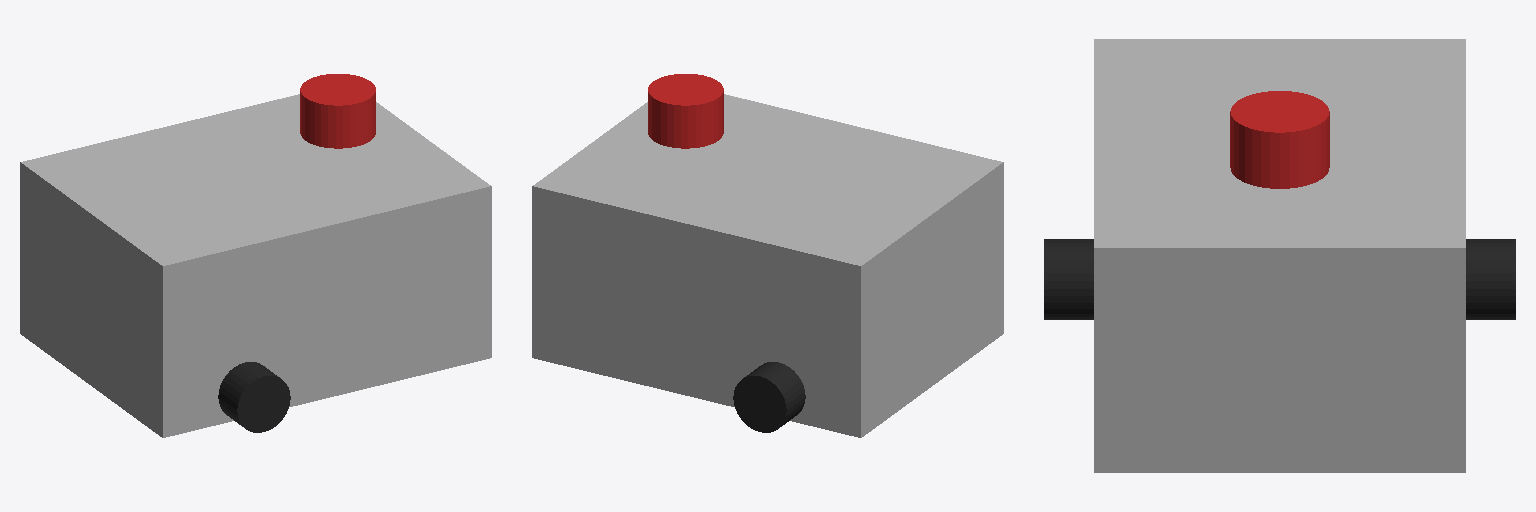
robot.urdf — portamail_robot:
<?xml version="1.0"?>
<robot name="portamail_robot" xmlns:xacro="http://www.ros.org/wiki/xacro">

  <!-- Base Link -->
  <link name="base_link">
    <inertial>
      <mass value="26.99"/>
      <origin xyz="0 0 0.1"/>
      <inertia ixx="0.619" ixy="0" ixz="0.006" iyy="0.668" iyz="0" izz="0.983"/>
    </inertial>
    <visual>
      <origin xyz="0 0 0.1" rpy="0 0 0"/>
      <geometry>
        <box size="0.4 0.3 0.2"/>
      </geometry>
      <material name="gray">
        <color rgba="0.75 0.75 0.75 1"/>
      </material>
    </visual>
    <collision>
      <origin xyz="0 0 0.1" rpy="0 0 0"/>
      <geometry>
        <box size="0.4 0.3 0.2"/>
      </geometry>
    </collision>
  </link>

  <!-- Left Wheel -->
  <link name="left_wheel">
    <inertial>
      <mass value="0.589"/>
      <inertia ixx="0.00113" ixy="0" ixz="0" iyy="0.00113" iyz="0" izz="0.00220"/>
    </inertial>
    <visual>
      <origin xyz="0 0 0" rpy="1.5708 0 0"/>
      <geometry>
        <cylinder radius="0.0325" length="0.04"/>
      </geometry>
      <material name="black">
        <color rgba="0.2 0.2 0.2 1"/>
      </material>
    </visual>
    <collision>
      <origin xyz="0 0 0" rpy="1.5708 0 0"/>
      <geometry>
        <cylinder radius="0.0325" length="0.04"/>
      </geometry>
    </collision>
  </link>

  <joint name="left_wheel_joint" type="continuous">
    <parent link="base_link"/>
    <child link="left_wheel"/>
    <origin xyz="-0.10 0.17 0.0325" rpy="0 0 0"/>
    <axis xyz="0 1 0"/>
  </joint>

  <!-- Right Wheel -->
  <link name="right_wheel">
    <inertial>
      <mass value="0.589"/>
      <inertia ixx="0.00113" ixy="0" ixz="0" iyy="0.00113" iyz="0" izz="0.00220"/>
    </inertial>
    <visual>
      <origin xyz="0 0 0" rpy="1.5708 0 0"/>
      <geometry>
        <cylinder radius="0.0325" length="0.04"/>
      </geometry>
      <material name="black">
        <color rgba="0.2 0.2 0.2 1"/>
      </material>
    </visual>
    <collision>
      <origin xyz="0 0 0" rpy="1.5708 0 0"/>
      <geometry>
        <cylinder radius="0.0325" length="0.04"/>
      </geometry>
    </collision>
  </link>

  <joint name="right_wheel_joint" type="continuous">
    <parent link="base_link"/>
    <child link="right_wheel"/>
    <origin xyz="-0.10 -0.17 0.0325" rpy="0 0 0"/>
    <axis xyz="0 1 0"/>
  </joint>

  <!-- Caster Wheel -->
  <link name="caster_wheel">
    <inertial>
      <mass value="0.066"/>
      <inertia ixx="0.00003" ixy="0" ixz="0" iyy="0.00003" iyz="0" izz="0.00004"/>
    </inertial>
    <visual>
      <geometry>
        <sphere radius="0.0325"/>
      </geometry>
      <material name="gray">
        <color rgba="0.5 0.5 0.5 1"/>
      </material>
    </visual>
    <collision>
      <geometry>
        <sphere radius="0.0325"/>
      </geometry>
    </collision>
  </link>

  <joint name="caster_joint" type="fixed">
    <parent link="base_link"/>
    <child link="caster_wheel"/>
    <origin xyz="0.15 0 0.0325" rpy="0 0 0"/>
  </joint>

  <!-- Laser Scanner -->
  <link name="laser">
    <inertial>
      <mass value="0.125"/>
      <inertia ixx="0.001" ixy="0" ixz="0" iyy="0.001" iyz="0" izz="0.001"/>
    </inertial>
    <visual>
      <geometry>
        <cylinder radius="0.04" length="0.05"/>
      </geometry>
      <material name="red">
        <color rgba="0.8 0.2 0.2 1"/>
      </material>
    </visual>
    <collision>
      <geometry>
        <cylinder radius="0.04" length="0.05"/>
      </geometry>
    </collision>
  </link>

  <joint name="laser_joint" type="fixed">
    <parent link="base_link"/>
    <child link="laser"/>
    <origin xyz="0.1 0 0.25" rpy="0 0 0"/>
  </joint>

  <!-- ============================================ -->
  <!-- GAZEBO CLASSIC PLUGINS -->
  <!-- ============================================ -->

  <!-- Differential Drive Controller -->
  <gazebo>
    <plugin name="differential_drive_controller" filename="libgazebo_ros_diff_drive.so">
      <update_rate>50</update_rate>
      <left_joint>left_wheel_joint</left_joint>
      <right_joint>right_wheel_joint</right_joint>
      <wheel_separation>0.34</wheel_separation>
      <wheel_diameter>0.065</wheel_diameter>
      <max_wheel_torque>20</max_wheel_torque>
      <max_wheel_acceleration>1.0</max_wheel_acceleration>
      <command_topic>cmd_vel</command_topic>
      <publish_odom>true</publish_odom>
      <publish_odom_tf>true</publish_odom_tf>
      <publish_wheel_tf>false</publish_wheel_tf>
      <odometry_topic>odom</odometry_topic>
      <odometry_frame>odom</odometry_frame>
      <robot_base_frame>base_link</robot_base_frame>
    </plugin>
  </gazebo>

  <!-- Lidar Sensor -->
  <gazebo reference="laser">
    <sensor type="ray" name="rplidar_sensor">
      <pose>0 0 0 0 0 0</pose>
      <visualize>true</visualize>
      <update_rate>10</update_rate>
      <ray>
        <scan>
          <horizontal>
            <samples>360</samples>
            <resolution>1</resolution>
            <min_angle>-3.14159</min_angle>
            <max_angle>3.14159</max_angle>
          </horizontal>
        </scan>
        <range>
          <min>0.15</min>
          <max>12.0</max>
          <resolution>0.01</resolution>
        </range>
        <noise>
          <type>gaussian</type>
          <mean>0.0</mean>
          <stddev>0.01</stddev>
        </noise>
      </ray>
      <plugin name="gazebo_ros_laser" filename="libgazebo_ros_ray_sensor.so">
        <ros>
          <remapping>~/out:=scan</remapping>
        </ros>
        <output_type>sensor_msgs/LaserScan</output_type>
        <frame_name>laser</frame_name>
      </plugin>
    </sensor>
  </gazebo>

  <!-- Material Properties -->
  <gazebo reference="base_link">
    <material>Gazebo/Grey</material>
  </gazebo>

  <gazebo reference="left_wheel">
    <material>Gazebo/Black</material>
    <mu1>1.0</mu1>
    <mu2>1.0</mu2>
    <kp>1000000.0</kp>
    <kd>100.0</kd>
  </gazebo>

  <gazebo reference="right_wheel">
    <material>Gazebo/Black</material>
    <mu1>1.0</mu1>
    <mu2>1.0</mu2>
    <kp>1000000.0</kp>
    <kd>100.0</kd>
  </gazebo>

  <gazebo reference="caster_wheel">
    <material>Gazebo/Grey</material>
    <mu1>0.0</mu1>
    <mu2>0.0</mu2>
  </gazebo>

  <gazebo reference="laser">
    <material>Gazebo/Red</material>
  </gazebo>

</robot>

--- What the picture shows (computed from the rendered views, not written in the file) ---
The picture shows the robot from 3 angles, left to right: view 1: azimuth 30°, elevation 25°; view 2: azimuth 150°, elevation 25°; view 3: azimuth 270°, elevation 25°; orthographic projection.
Robot: portamail_robot — 5 links, 4 joints (2 continuous, 2 fixed); root link base_link; default pose: all joints at 0.
Links seen in each view (by area): view 1: base_link, laser, right_wheel; view 2: base_link, laser, left_wheel; view 3: base_link, laser, left_wheel, right_wheel.
Boxes of the visible links, x1,y1,x2,y2 form: base_link: (20,94,491,437); laser: (300,74,375,148); right_wheel: (218,362,290,432); base_link: (532,94,1003,437); laser: (648,74,723,148); left_wheel: (733,362,805,432); base_link: (1094,39,1465,472); laser: (1230,91,1329,188); left_wheel: (1466,239,1515,319); right_wheel: (1044,239,1093,319).
Bounding box of the posed robot: 0.4 × 0.38 × 0.275 m (x, y, z).
Geometry: primitives only (box / cylinder / sphere), no mesh files.
